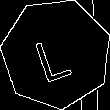L_N: (34, 25, 79, 82)
